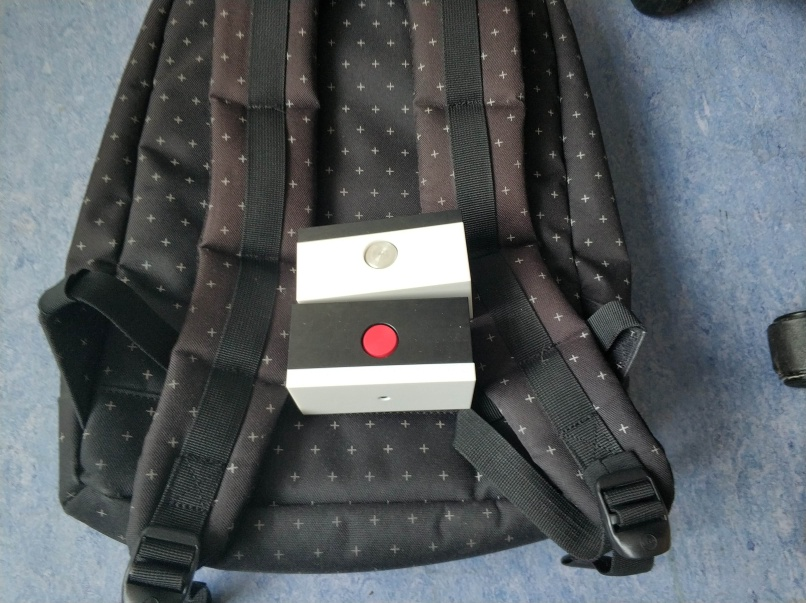black+white+silver: (292, 206, 475, 303)
white+black+red: (286, 301, 478, 416)
